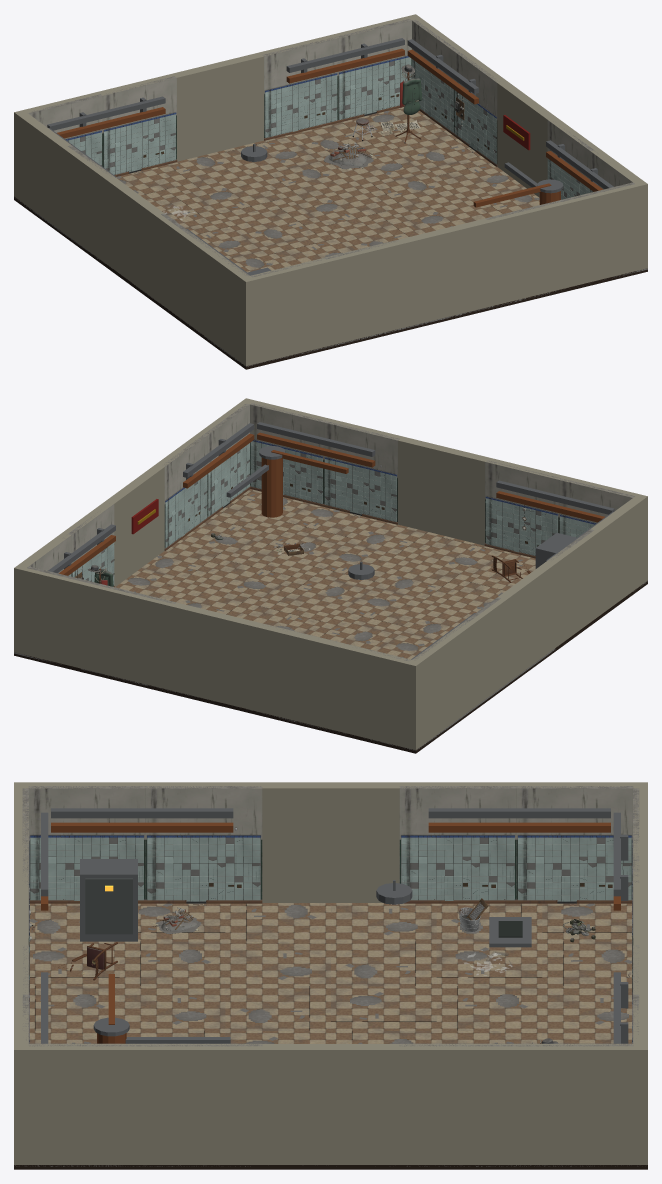
File: room_pipe_gallery_decorated.glb
The picture shows the model from 3 angles, top to bottom: view 1: azimuth 30°, elevation 25°; view 2: azimuth 150°, elevation 25°; view 3: azimuth 270°, elevation 25°; orthographic projection. The views are drawn at different scales.
Visible parts, largest first — view 1: Wall_S_A, Wall_S_B, Wall_W_B, Wall_W_A, Plug_S, Plug_N, NoCol_Wallpaper_N2, NoCol_Wallpaper_N1, NoCol_Wallpaper_N3, Plug_W, NoCol_Wallpaper_E2, Plug_E (+44 smaller); view 2: Wall_N_A, Wall_N_B, Wall_W_A, Wall_W_B, Plug_N, Plug_S, NoCol_Wallpaper_S2, NoCol_Wallpaper_S1, NoCol_Wallpaper_S3, Plug_W, NoCol_Wallpaper_E1, Plug_E (+44 smaller); view 3: Wall_E_A, Wall_E_B, Plug_E, Plug_W, NoCol_Wallpaper_W1, NoCol_Wallpaper_W2, NoCol_Wallpaper_W3, NoCol_Wallpaper_W0, NoCol_FloorTile_11, NoCol_FloorTile_12, NoCol_FloorTile_13, NoCol_FloorTile_24 (+49 smaller).
Boxes of the visible parts, x1,y1,x2,y2 form: Wall_S_A: (240,240,403,365); Wall_S_B: (486,180,647,306); Wall_W_B: (19,114,113,262); Wall_W_A: (155,214,249,361); Plug_S: (403,233,490,327); Plug_N: (177,67,263,161); NoCol_Wallpaper_N2: (262,37,337,140); NoCol_Wallpaper_N1: (102,76,176,174); NoCol_Wallpaper_N3: (336,19,411,119); Plug_W: (105,189,155,299); NoCol_Wallpaper_E2: (454,51,499,164); Plug_E: (497,93,547,197); Wall_N_A: (258,624,421,749); Wall_N_B: (14,564,176,690); Wall_W_A: (548,498,642,646); Wall_W_B: (412,598,506,745); Plug_N: (171,617,258,711); Plug_S: (398,451,484,545); NoCol_Wallpaper_S2: (324,421,399,521); NoCol_Wallpaper_S1: (485,460,560,555); NoCol_Wallpaper_S3: (250,403,325,503); Plug_W: (506,573,556,683); NoCol_Wallpaper_E1: (162,435,207,548); Plug_E: (114,477,164,586); Wall_E_A: (28,1044,262,1164); Wall_E_B: (399,1044,633,1164); Plug_E: (262,1064,399,1164); Plug_W: (262,802,399,902); NoCol_Wallpaper_W1: (145,786,262,903); NoCol_Wallpaper_W2: (399,786,516,900); NoCol_Wallpaper_W3: (516,786,633,903); NoCol_Wallpaper_W0: (28,786,145,900); NoCol_FloorTile_11: (119,941,225,986); NoCol_FloorTile_12: (225,941,330,986); NoCol_FloorTile_13: (331,941,436,986); NoCol_FloorTile_24: (436,986,542,1030).
Size of the model in its own units: 12 by 2.5 by 12.
31 materials, 15 textured.
